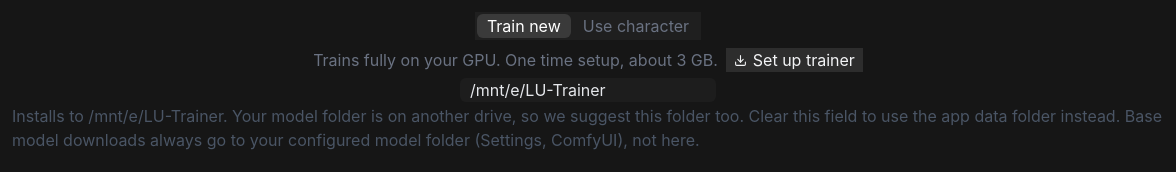
Test case: B3: ein zurueckgezogener suggestedRoot im laufenden Panel (Erstsetup-Gate, envReady false) › THE FIX: verschwindet der Vorschlag aus einem spaeteren Status, faellt das Feld auf leer zurueck statt den alten Vorschlag festzuhalten
Expected: the field showing "/mnt/e/LU-Trainer" holds "/mnt/e/LU-Trainer", [460,78,716,102]
Click the button "Set up trainer" at (794,60), box [726,48,863,72]
Wait 2000 ms
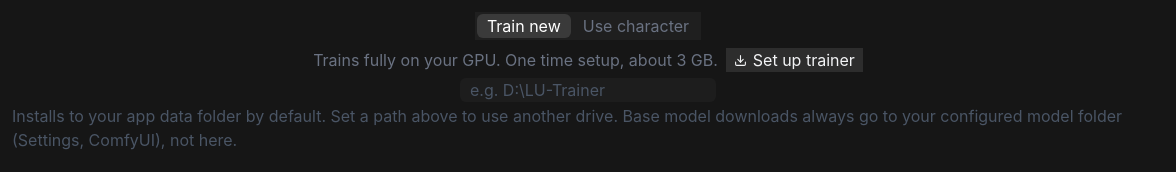
Expected: the text showing "/mnt/e/LU-Trainer" is gone
Expected: the field with placeholder "e.g. D:\\LU-Trainer" is empty, [460,78,716,102]
